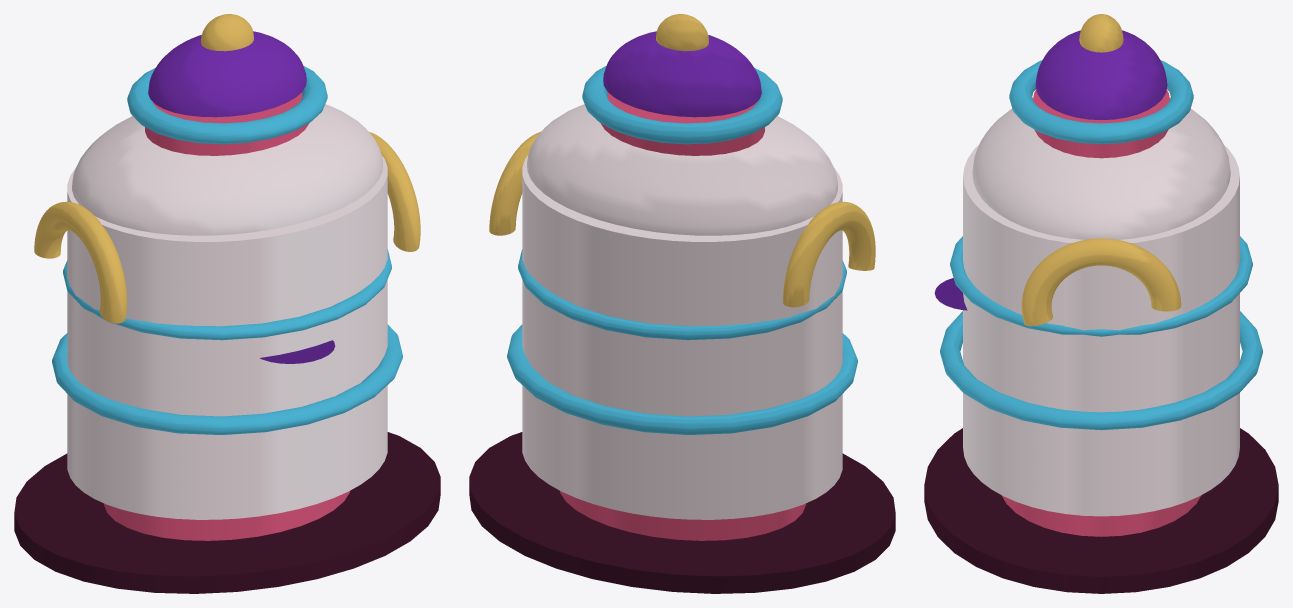
File: 0755_先秦图鉴_投壶.glb
3 renders of one model, left to right at view 1: azimuth 30°, elevation 25°; view 2: azimuth 150°, elevation 25°; view 3: azimuth 270°, elevation 25°, orthographic. The views are drawn at different scales.
Parts seen in each view (by area): view 1: card_0755; view 2: card_0755; view 3: card_0755.
Boxes of the visible parts, x1,y1,x2,y2 form: card_0755: (14,14,440,593); card_0755: (469,14,895,593); card_0755: (924,14,1278,593).
Bounding box in the file's own units: 0.8146 × 1 × 0.6618.
